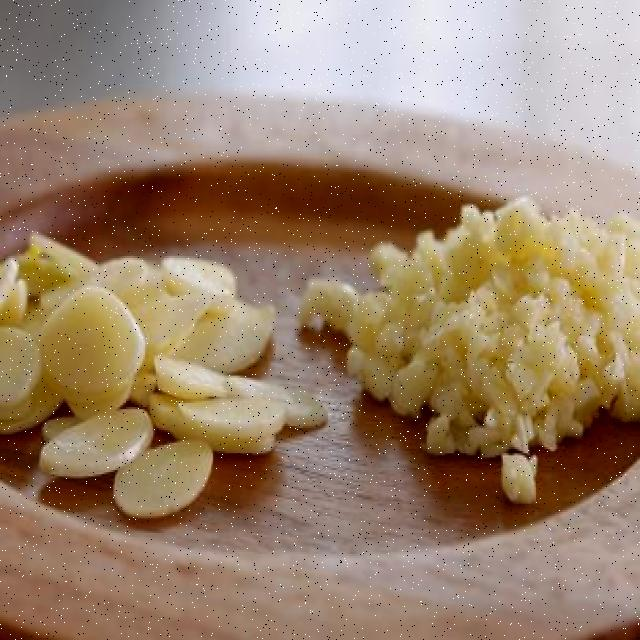Garlic: (0, 168, 263, 575), (310, 167, 640, 449)
